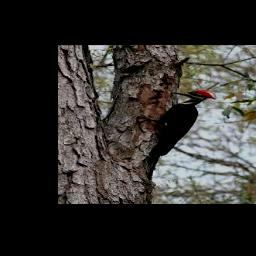Woodpecker: (137, 90, 216, 180)
